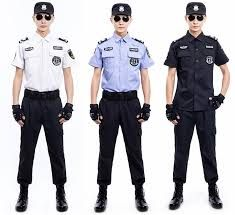uniform: (16, 31, 68, 190), (97, 32, 147, 191), (172, 33, 220, 183)
